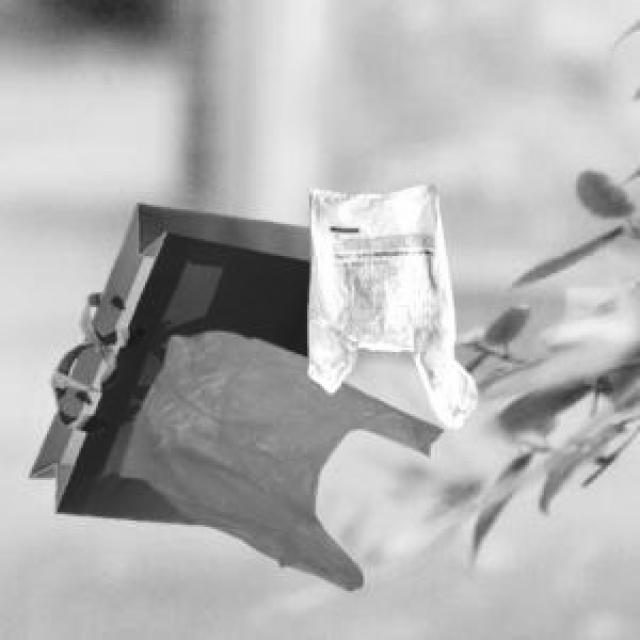paper: (26, 201, 307, 521)
